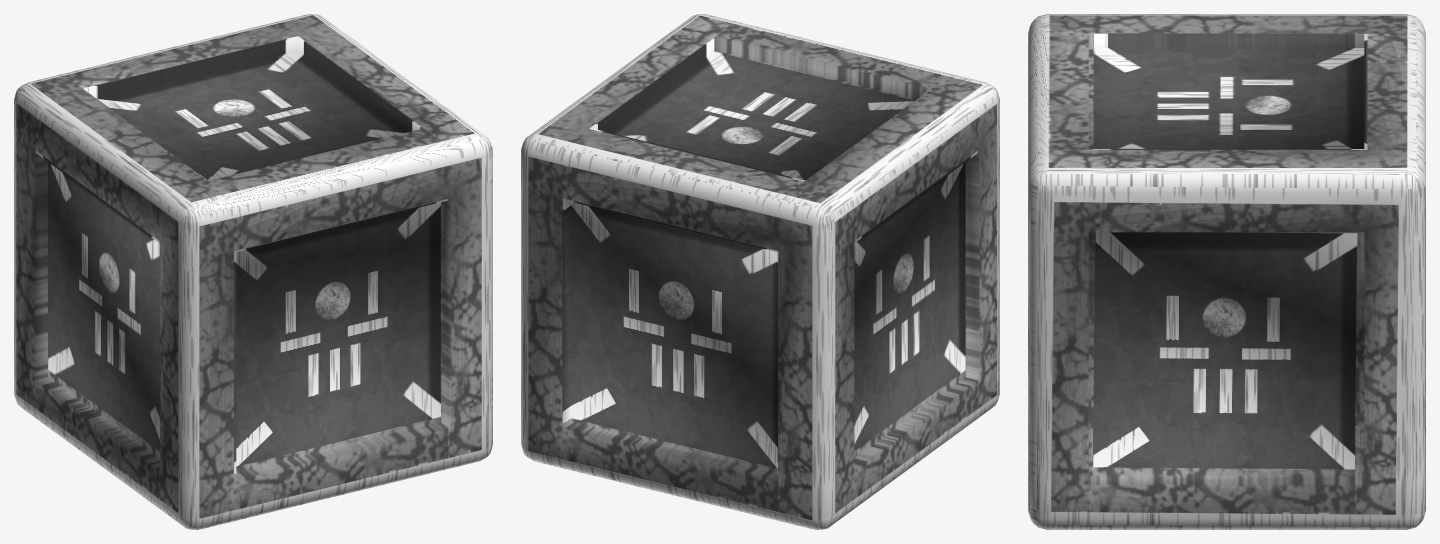
The picture shows the model from 3 angles, left to right: view 1: azimuth 30°, elevation 25°; view 2: azimuth 150°, elevation 25°; view 3: azimuth 270°, elevation 25°; orthographic projection. The views are drawn at different scales.
Parts seen in each view (by area): view 1: Cube; view 2: Cube; view 3: Cube.
Part boxes in pixels (left/top/right/bottom): Cube: left=14, top=14, right=492, bottom=529; Cube: left=521, top=14, right=999, bottom=529; Cube: left=1028, top=14, right=1425, bottom=529.
Size of the model in its own units: 100 by 100 by 100.
